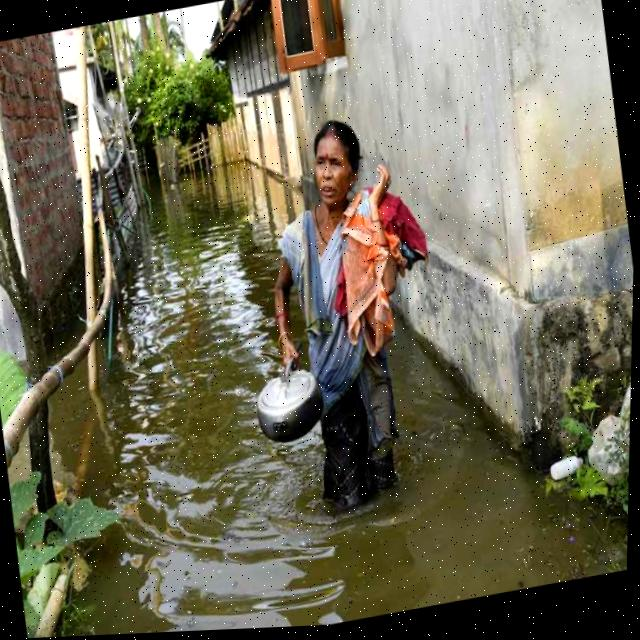civilian: (208, 89, 513, 537)
